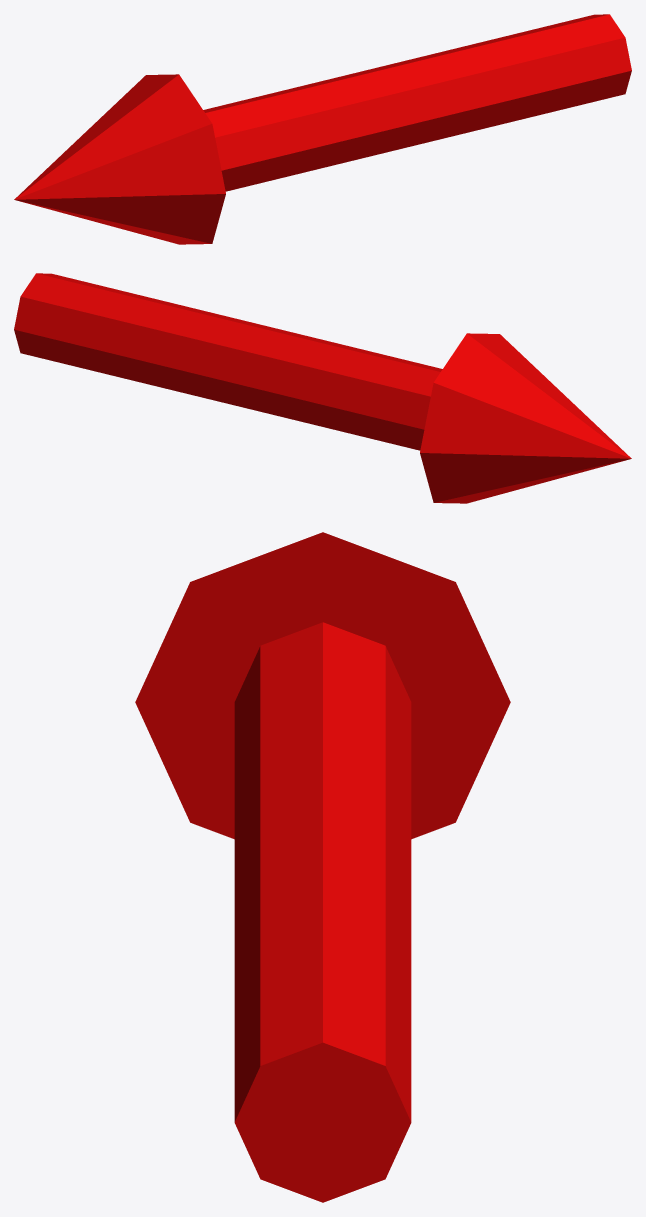
The model's file is GizmoArrow.fbx.
3 renders of one model, top to bottom at view 1: azimuth 30°, elevation 25°; view 2: azimuth 150°, elevation 25°; view 3: azimuth 270°, elevation 25°, orthographic. The views are drawn at different scales.
Visible parts, largest first — view 1: Cylinder; view 2: Cylinder; view 3: Cylinder.
Boxes of the visible parts, x1,y1,x2,y2 form: Cylinder: [14, 14, 631, 244]; Cylinder: [14, 273, 631, 503]; Cylinder: [135, 532, 510, 1202].
Size of the model in its own units: 0.9961 by 0.2719 by 0.2719.
